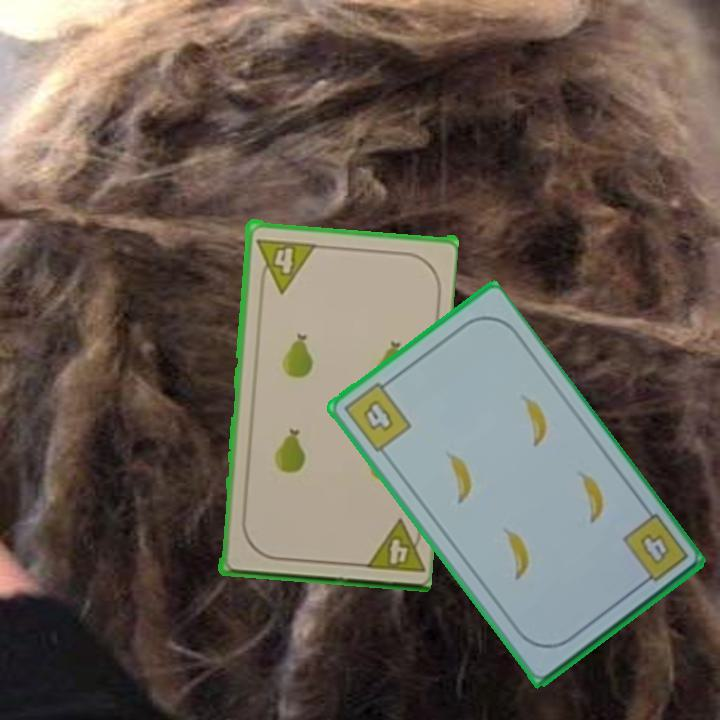4b: (340, 375, 415, 456), (618, 510, 691, 591)
4p: (358, 515, 425, 576), (252, 234, 317, 294)
